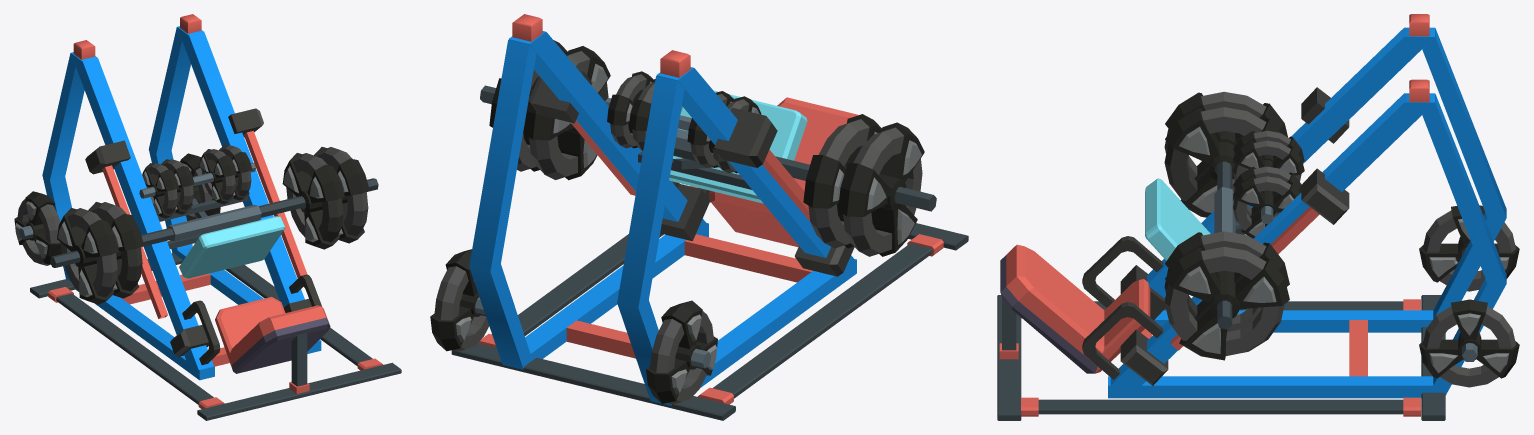
Rendered from leg-machine.fbx.
3 renders of one model, left to right at view 1: azimuth 30°, elevation 25°; view 2: azimuth 150°, elevation 25°; view 3: azimuth 270°, elevation 25°, orthographic. The views are drawn at different scales.
Visible parts, largest first — view 1: Cube.006, Cube.011; view 2: Cube.006, Cube.011; view 3: Cube.006, Cube.011.
Boxes of the visible parts, box(x1,y1,x2,y2) form: Cube.006: box(14, 14, 401, 420); Cube.011: box(50, 145, 378, 304); Cube.006: box(430, 14, 968, 420); Cube.011: box(480, 40, 936, 256); Cube.006: box(997, 14, 1519, 420); Cube.011: box(1145, 91, 1304, 360).
Size of the model in its own units: 2.99 by 2.18 by 3.31.
